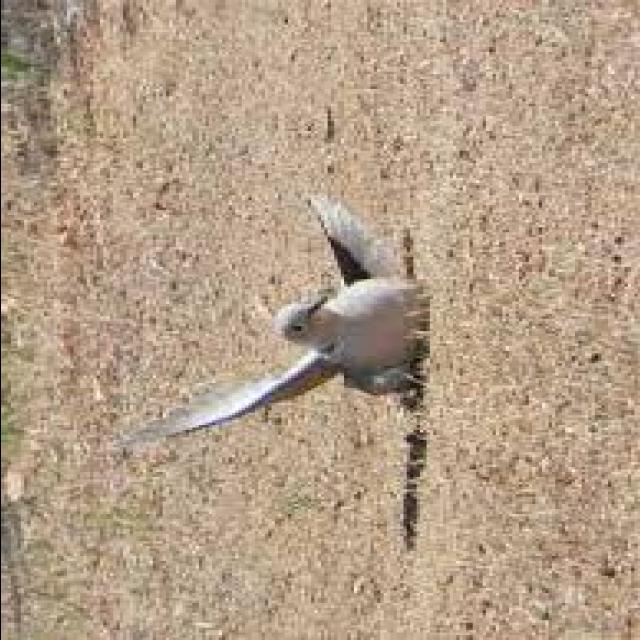pigeon: (113, 186, 500, 465)
